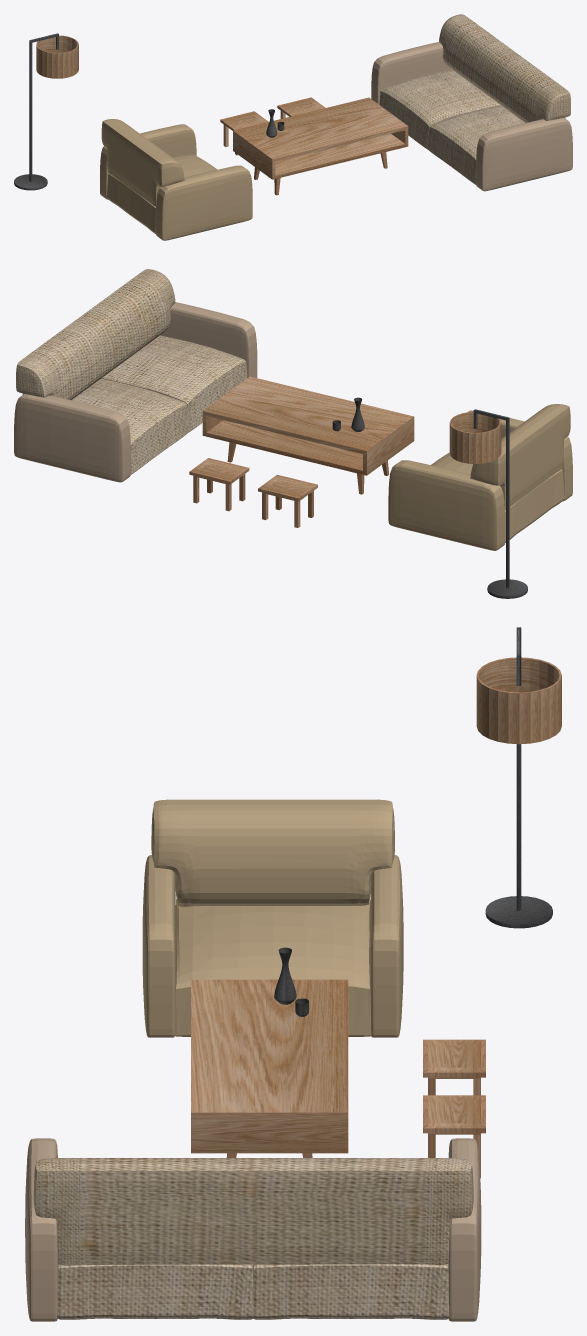
File: table_sofa.obj
The picture shows the model from 3 angles, top to bottom: view 1: azimuth 30°, elevation 25°; view 2: azimuth 150°, elevation 25°; view 3: azimuth 270°, elevation 25°; orthographic projection. The views are drawn at different scales.
Visible parts, largest first — view 1: sofa2.1, sofa1.1, table.1, lamp.1, chair, chair2; view 2: sofa2.1, sofa1.1, table.1, lamp.1, chair2, chair; view 3: sofa2.1, sofa1.1, table.1, lamp.1, chair2, chair.
Part boxes in pixels (x1,y1,x2,y2): sofa2.1: (371,14,572,191); sofa1.1: (100,119,252,240); table.1: (233,97,408,195); lamp.1: (14,33,78,190); chair: (220,111,268,155); chair2: (277,97,325,118); sofa2.1: (14,269,257,482); sofa1.1: (388,404,572,550); table.1: (202,376,414,494); lamp.1: (449,409,527,598); chair2: (189,458,249,511); chair: (258,474,317,527); sofa2.1: (25,1138,481,1321); sofa1.1: (142,799,403,1037); table.1: (191,979,348,1157); lamp.1: (476,627,561,928); chair2: (423,1095,485,1178); chair: (423,1039,485,1095).
Size of the model in its own units: 4475 by 1407 by 2391.
